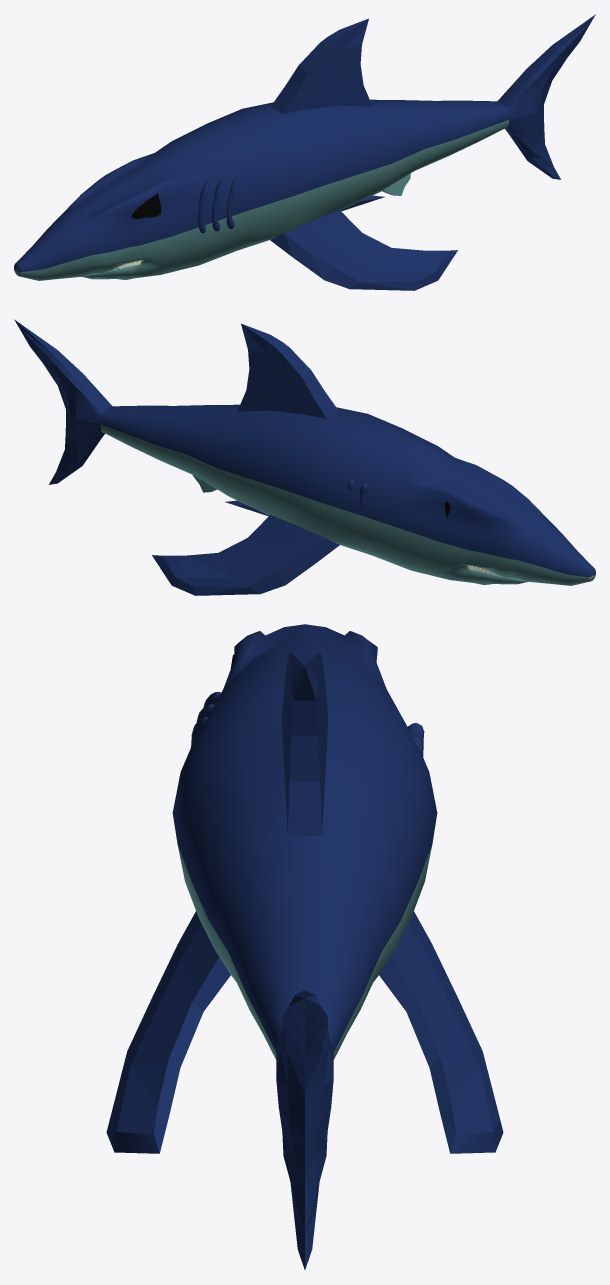
The model's file is Shark.FBX.
3 views of the same model, one above another, from view 1: azimuth 30°, elevation 25°; view 2: azimuth 150°, elevation 25°; view 3: azimuth 270°, elevation 25° (orthographic). The views are drawn at different scales.
Visible parts, largest first — view 1: Shark, Eye_brwo2, Pyramid001; view 2: Shark; view 3: Shark.
Part boxes in pixels (x1=…): Shark: x1=14, y1=14, x2=595, y2=290; Eye_brwo2: x1=198, y1=175, x2=240, y2=233; Pyramid001: x1=131, y1=193, x2=161, y2=218; Shark: x1=14, y1=319, x2=595, y2=595; Shark: x1=106, y1=624, x2=503, y2=1269.
Size of the model in its own units: 529 by 204 by 156.
